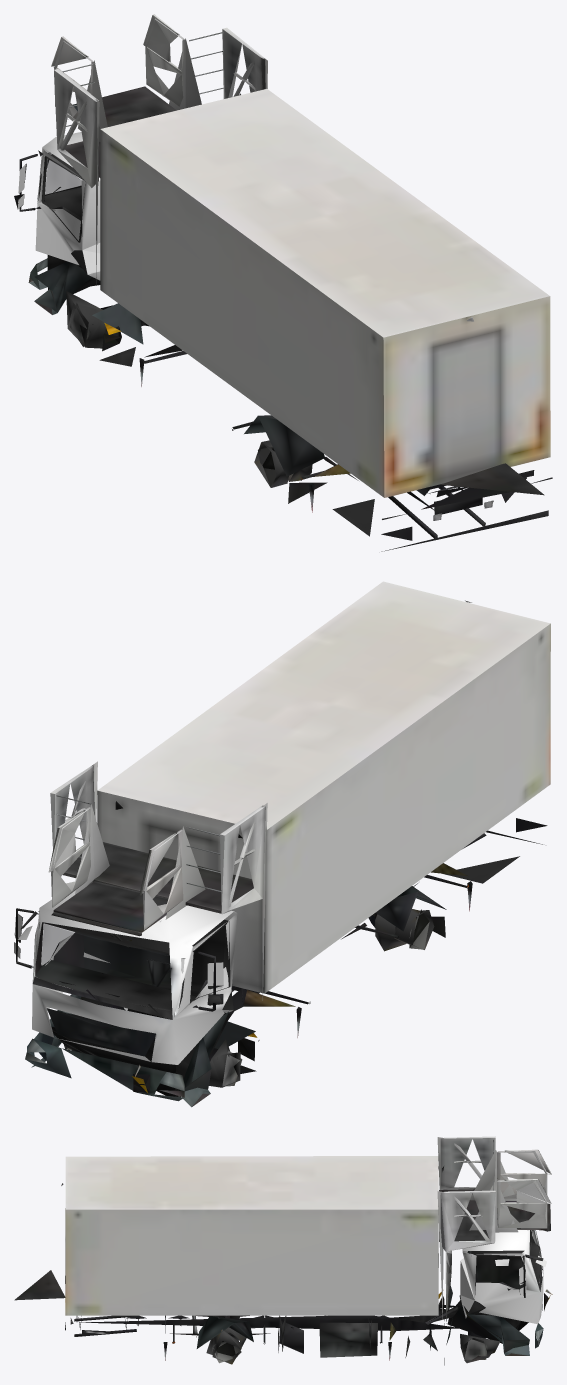
File: catering_truck_lod1.glb
The picture shows the model from 3 angles, top to bottom: view 1: azimuth 30°, elevation 25°; view 2: azimuth 150°, elevation 25°; view 3: azimuth 270°, elevation 25°; orthographic projection. The views are drawn at different scales.
Parts seen in each view (by area): view 1: catering_truck; view 2: catering_truck; view 3: catering_truck.
Part boxes in pixels (box(x1,y1,x2,y2)): catering_truck: box(14, 14, 552, 551); catering_truck: box(14, 581, 550, 1107); catering_truck: box(14, 1136, 552, 1365).
Size of the model in its own units: 2.67 by 3.41 by 9.11.
3 materials, 2 textured.
